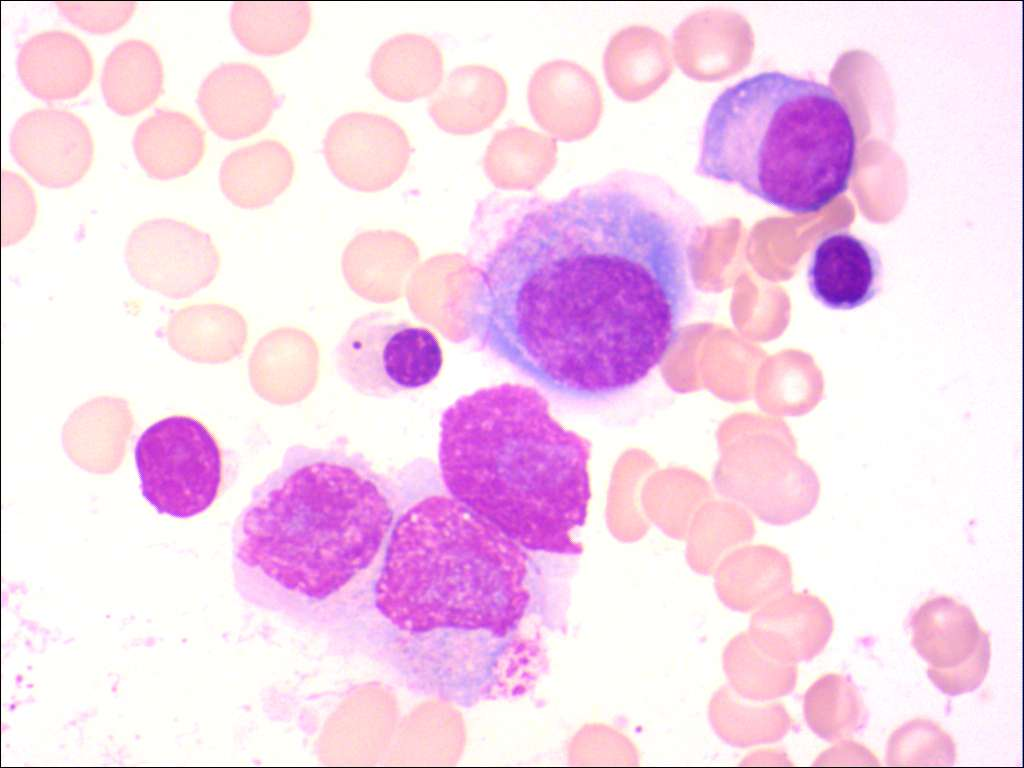24: (335, 308, 447, 405)
32: (803, 226, 888, 315)
51: (456, 165, 720, 410), (689, 66, 859, 220)
x: (365, 451, 558, 709), (434, 377, 595, 641), (227, 433, 400, 637), (128, 412, 227, 524)
